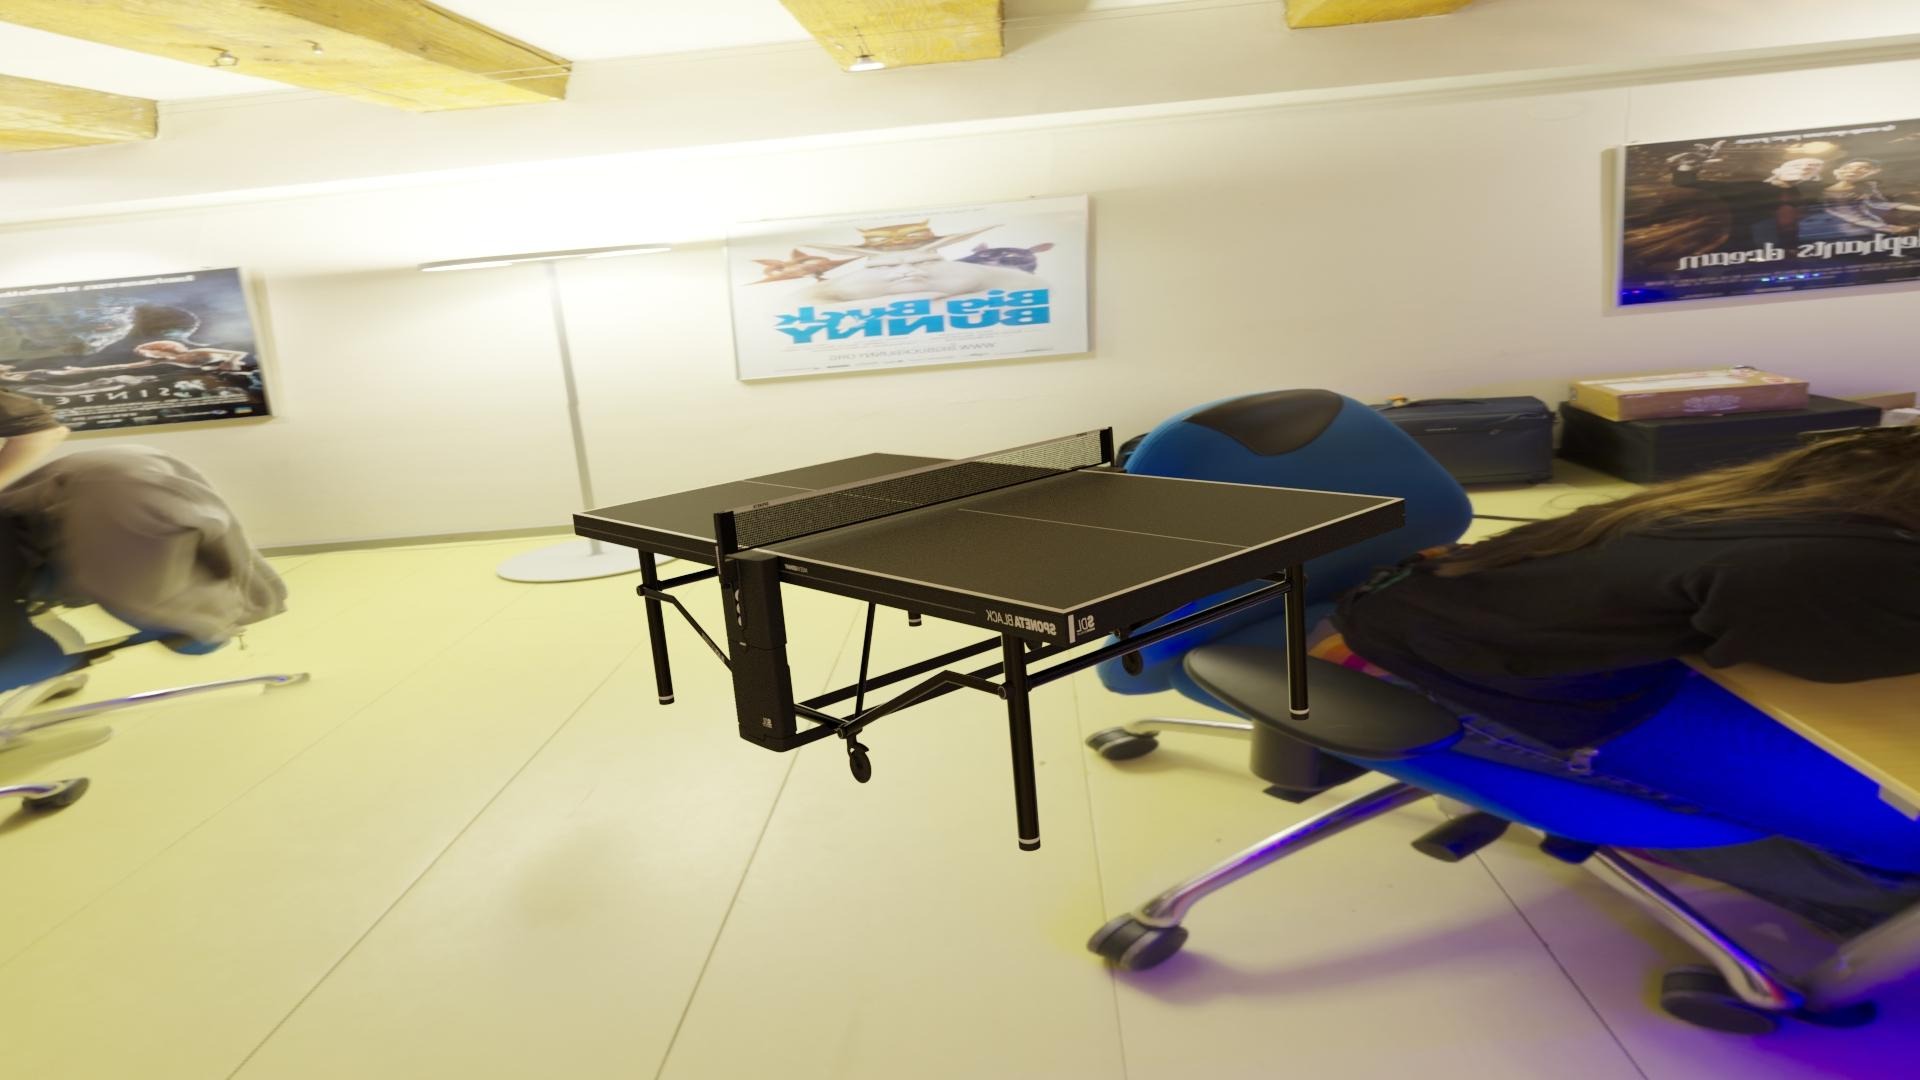table: (579, 452, 1395, 609)
